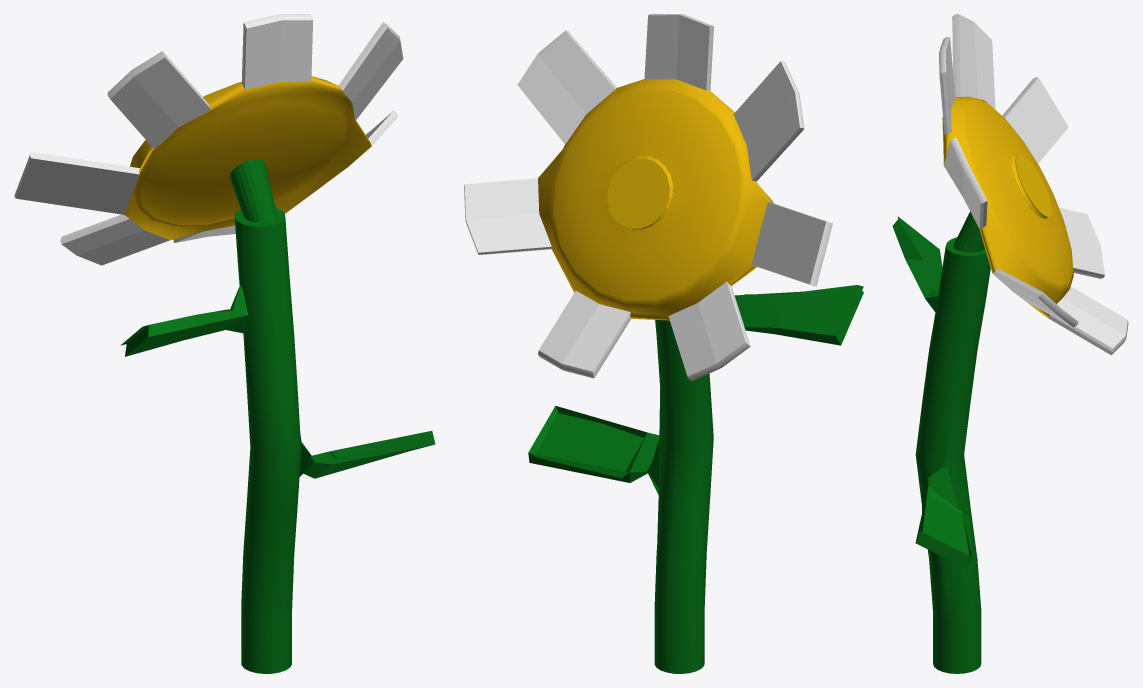
The model's file is Flower.fbx.
The picture shows the model from 3 angles, left to right: view 1: azimuth 30°, elevation 25°; view 2: azimuth 150°, elevation 25°; view 3: azimuth 270°, elevation 25°; orthographic projection. The views are drawn at different scales.
Parts seen in each view (by area): view 1: pSphere2; view 2: pSphere2; view 3: pSphere2.
Boxes of the visible parts, x1=… form: pSphere2: x1=14, y1=14, x2=435, y2=673; pSphere2: x1=464, y1=14, x2=863, y2=673; pSphere2: x1=892, y1=14, x2=1128, y2=673.
Size of the model in its own units: 1.43 by 2.41 by 0.8362.
